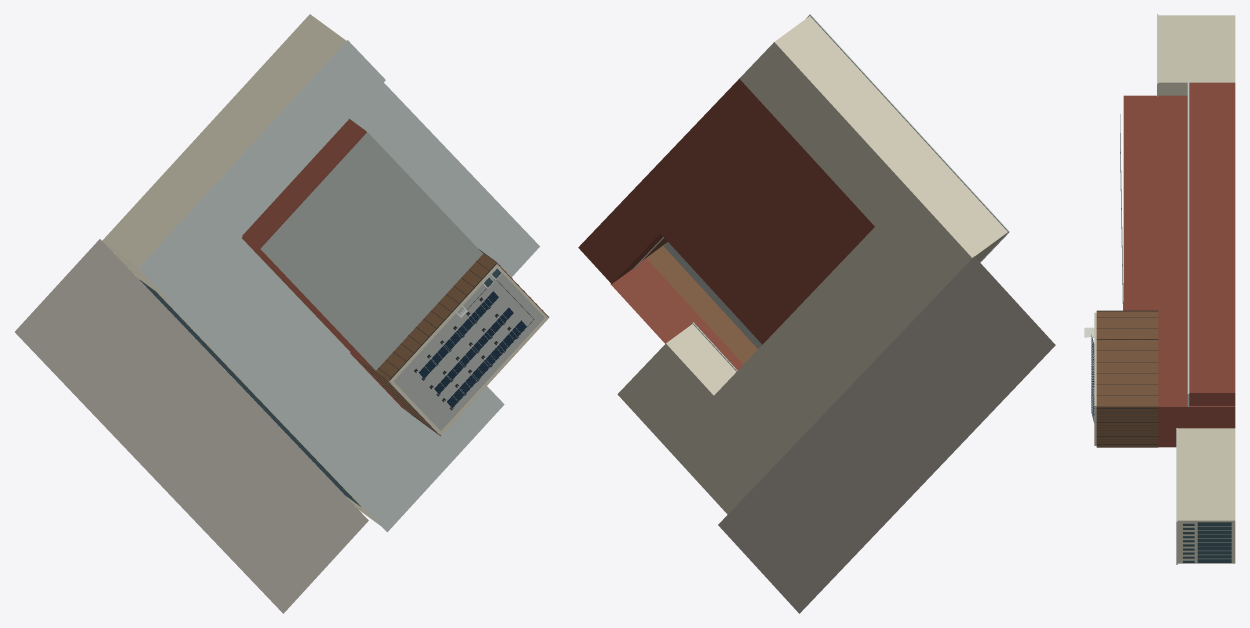
3 renders of one model, left to right at view 1: azimuth 30°, elevation 25°; view 2: azimuth 150°, elevation 25°; view 3: azimuth 270°, elevation 25°, orthographic. The views are drawn at different scales.
Parts seen in each view (by area): view 1: context_roof_coping, context_plaza, context_auditorium_roof, context_rear_blocks, metal_roof_deck, context_auditorium, flytower_timber_N, roof_edge_upstand, context_plaza_glazing, PV_row_1, PV_row_3, PV_row_2; view 2: context_plaza, context_rear_blocks, context_west_foyer, context_auditorium, context_east_service, context_south_entrance, flytower_brick_S, flytower_timber_S, upper_gallery_floor, context_roof_coping; view 3: context_east_service, context_auditorium, context_south_entrance, flytower_timber_E, context_rear_blocks, flytower_brick_E, flytower_timber_S, flytower_brick_S, timber_vertical_joints, context_south_glazing, context_roof_coping, timber_board_joints (+3 smaller).
Part boxes in pixels (left/top/right/bottom): context_roof_coping: left=138, top=40, right=539, bottom=532; context_plaza: left=15, top=239, right=368, bottom=613; context_auditorium_roof: left=260, top=132, right=482, bottom=370; context_rear_blocks: left=102, top=14, right=346, bottom=302; metal_roof_deck: left=390, top=265, right=544, bottom=430; context_auditorium: left=242, top=119, right=374, bottom=369; flytower_timber_N: left=359, top=250, right=496, bottom=380; roof_edge_upstand: left=390, top=264, right=548, bottom=434; context_plaza_glazing: left=139, top=279, right=359, bottom=505; PV_row_1: left=447, top=320, right=526, bottom=408; PV_row_3: left=418, top=291, right=498, bottom=378; PV_row_2: left=434, top=307, right=513, bottom=394; context_plaza: left=718, top=256, right=1055, bottom=613; context_rear_blocks: left=739, top=16, right=1007, bottom=294; context_west_foyer: left=679, top=227, right=936, bottom=500; context_auditorium: left=660, top=115, right=874, bottom=344; context_east_service: left=578, top=78, right=772, bottom=283; context_south_entrance: left=617, top=324, right=749, bottom=514; flytower_brick_S: left=610, top=258, right=743, bottom=370; flytower_timber_S: left=646, top=243, right=757, bottom=364; upper_gallery_floor: left=664, top=242, right=761, bottom=348; context_roof_coping: left=632, top=14, right=1009, bottom=371; context_east_service: left=1189, top=82, right=1235, bottom=405; context_auditorium: left=1123, top=95, right=1187, bottom=311; context_south_entrance: left=1177, top=428, right=1235, bottom=563; flytower_timber_E: left=1096, top=311, right=1158, bottom=406; context_rear_blocks: left=1158, top=15, right=1235, bottom=95; flytower_brick_E: left=1158, top=311, right=1235, bottom=406; flytower_timber_S: left=1096, top=407, right=1158, bottom=447; flytower_brick_S: left=1158, top=407, right=1235, bottom=447; timber_vertical_joints: left=1096, top=310, right=1158, bottom=447; context_south_glazing: left=1197, top=522, right=1231, bottom=562; context_roof_coping: left=1157, top=14, right=1189, bottom=564; timber_board_joints: left=1099, top=311, right=1142, bottom=446.
Bounding box in the file's own units: 77614 × 87803 × 19620.
